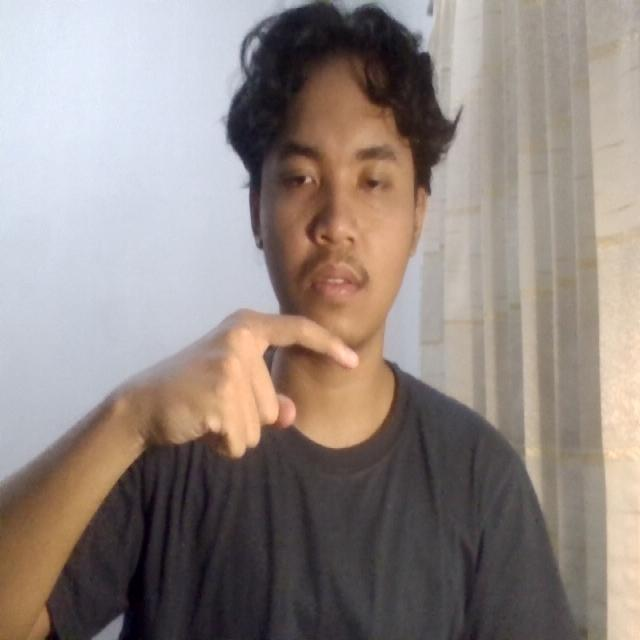N: (141, 280, 376, 480)
